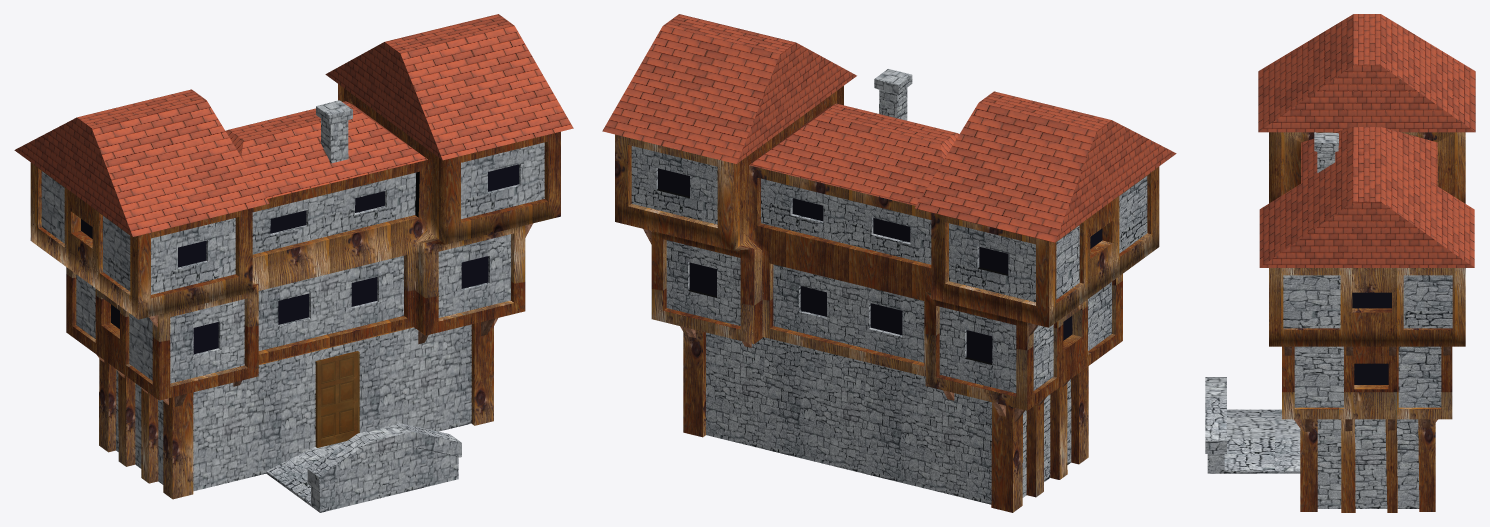
The model's file is habitation.FBX.
The picture shows the model from 3 angles, left to right: view 1: azimuth 30°, elevation 25°; view 2: azimuth 150°, elevation 25°; view 3: azimuth 270°, elevation 25°; orthographic projection. The views are drawn at different scales.
Parts seen in each view (by area): view 1: Box002; view 2: Box002; view 3: Box002, Box024.
Part boxes in pixels (<box>): Box002: <box>14,14,573,512</box>; Box002: <box>602,14,1176,512</box>; Box002: <box>1205,14,1475,512</box>; Box024: <box>1284,346,1450,431</box>.
Size of the model in its own units: 203 by 159 by 117.
